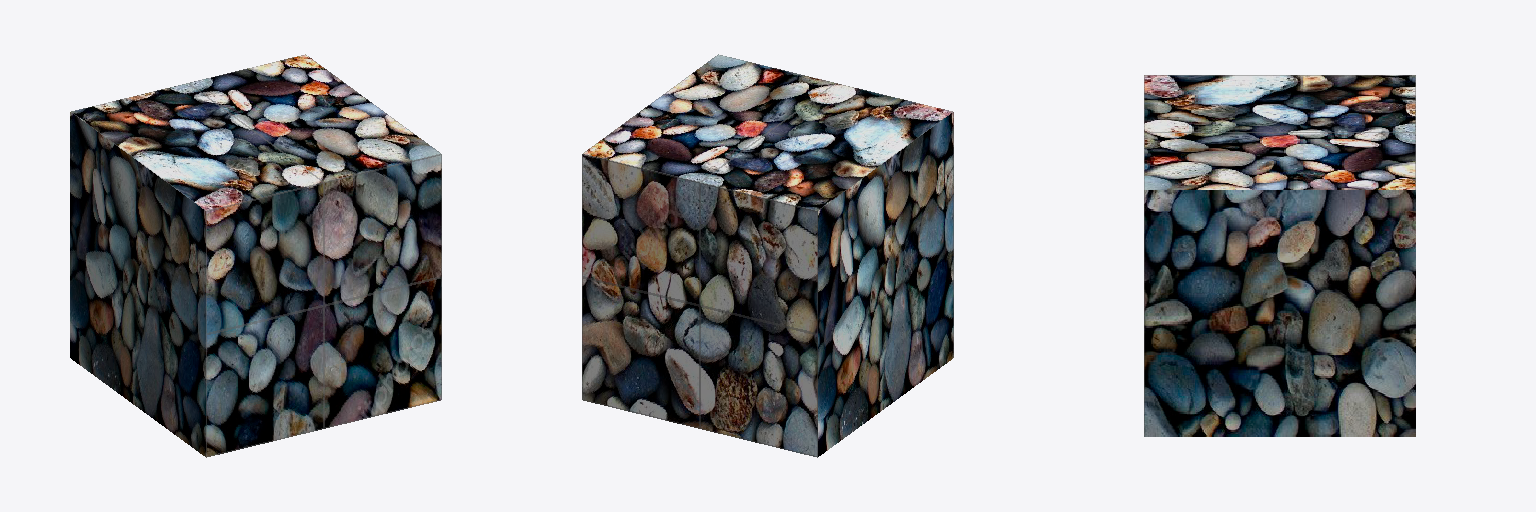
3 views of the same model, side by side, from view 1: azimuth 30°, elevation 25°; view 2: azimuth 150°, elevation 25°; view 3: azimuth 270°, elevation 25° (orthographic).
Visible parts, largest first — view 1: pCube1; view 2: pCube1; view 3: pCube1.
Boxes of the visible parts, box(x1,y1,x2,y2) form: pCube1: box(70, 54, 441, 457); pCube1: box(582, 54, 953, 457); pCube1: box(1144, 75, 1415, 436).
Size of the model in its own units: 1 by 1 by 1.
1 materials, 1 textured.